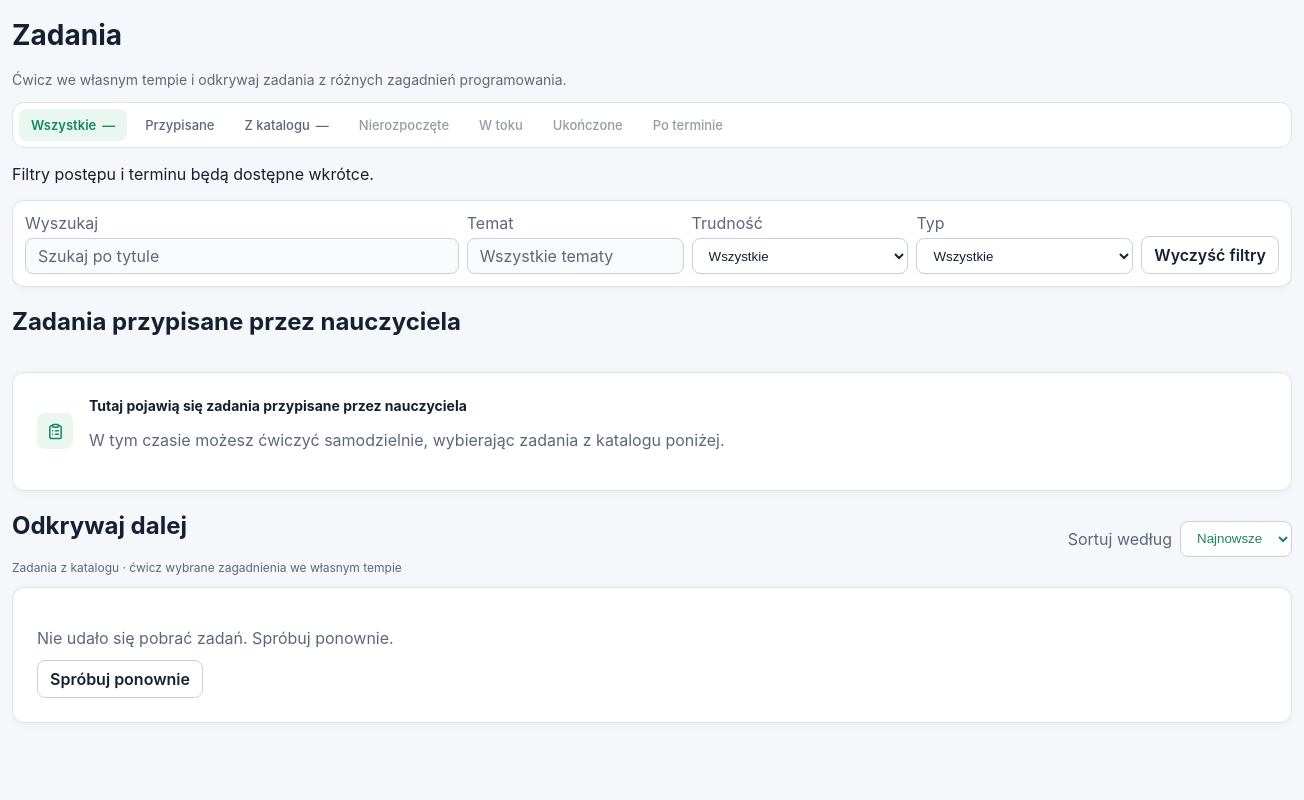
Test case: shows API errors and allows retry
This screenshot has width=1304, height=800.
Expected: the message "Nie udało się pobrać zadań. Spróbuj ponownie. Spróbuj ponownie" is shown, x1=12 y1=587 x2=1292 y2=723
Click the button "Spróbuj ponownie".
click(120, 679)  # box x1=37 y1=660 x2=203 y2=698
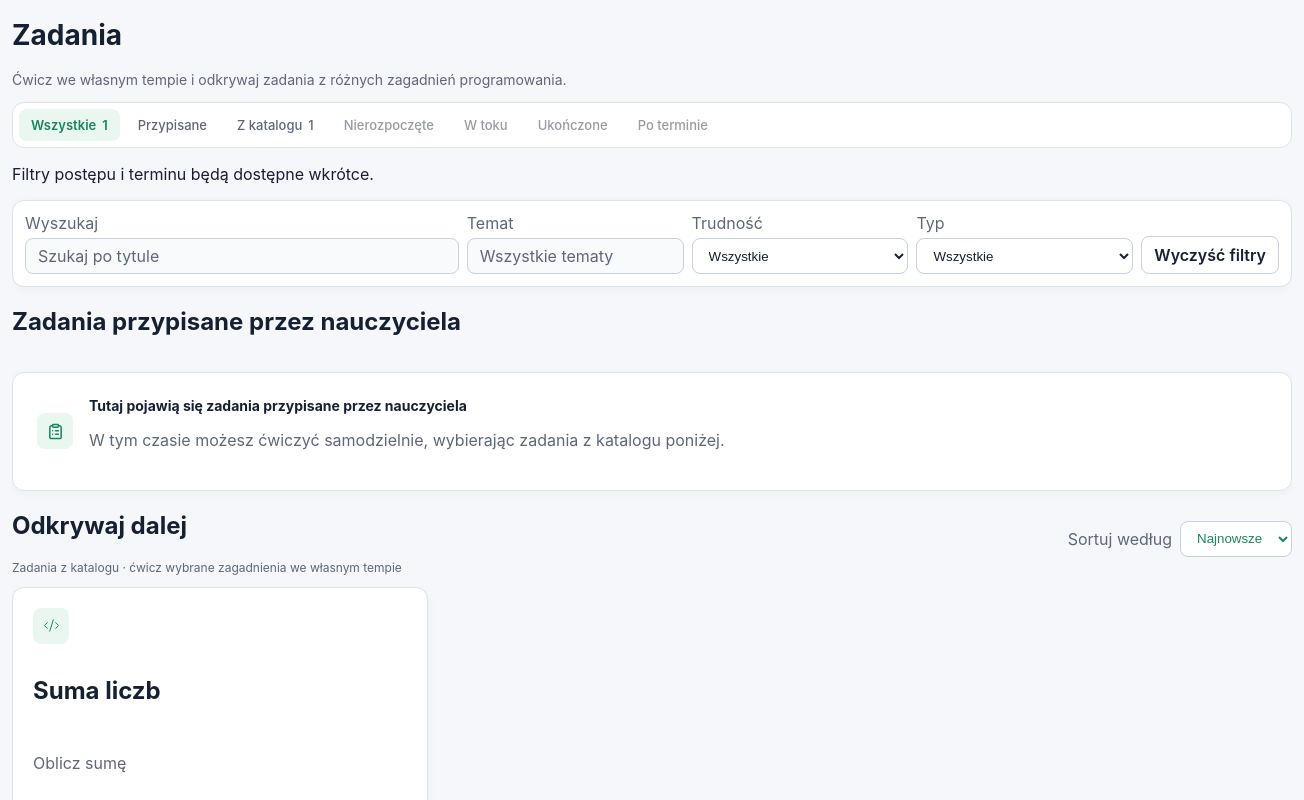
Now the link "Suma liczb" is shown, box x1=33 y1=676 x2=161 y2=705
